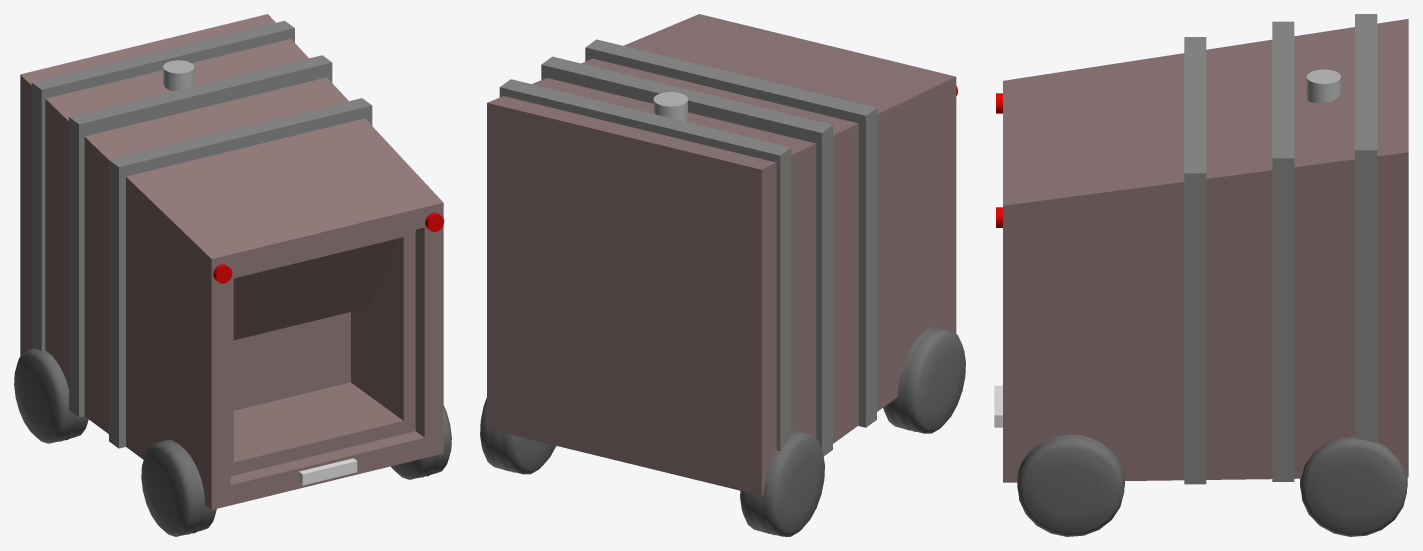
The model's file is CaminhaoLixo.fbx.
3 views of the same model, side by side, from view 1: azimuth 30°, elevation 25°; view 2: azimuth 150°, elevation 25°; view 3: azimuth 270°, elevation 25° (orthographic). The views are drawn at different scales.
Visible parts, largest first — view 1: caminhao_de_lixo; view 2: caminhao_de_lixo; view 3: caminhao_de_lixo.
Part boxes in pixels (<box>): caminhao_de_lixo: <box>14,14,451,536</box>; caminhao_de_lixo: <box>480,14,965,536</box>; caminhao_de_lixo: <box>994,14,1408,536</box>.
Bounding box in the file's own units: 9.99 × 12.45 × 12.01.
